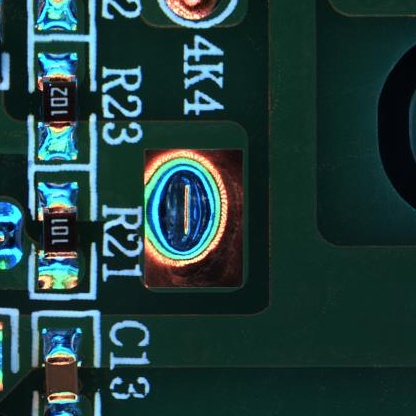spot: (144, 154, 224, 263)
